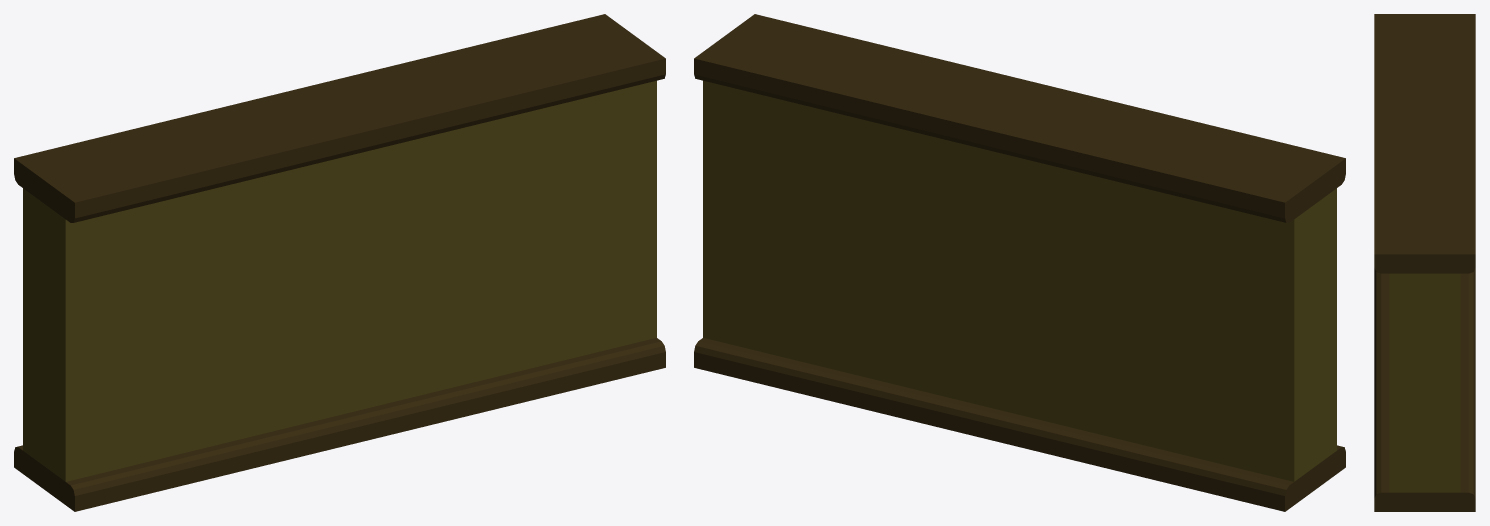
The model's file is WallHalf.fbx.
3 renders of one model, left to right at view 1: azimuth 30°, elevation 25°; view 2: azimuth 150°, elevation 25°; view 3: azimuth 270°, elevation 25°, orthographic. The views are drawn at different scales.
Visible parts, largest first — view 1: WallHalf; view 2: WallHalf; view 3: WallHalf.
Boxes of the visible parts, x1,y1,x2,y2 form: WallHalf: [14, 14, 665, 511]; WallHalf: [694, 14, 1345, 511]; WallHalf: [1374, 14, 1475, 511].
Bounding box in the file's own units: 400 × 200 × 71.24.
